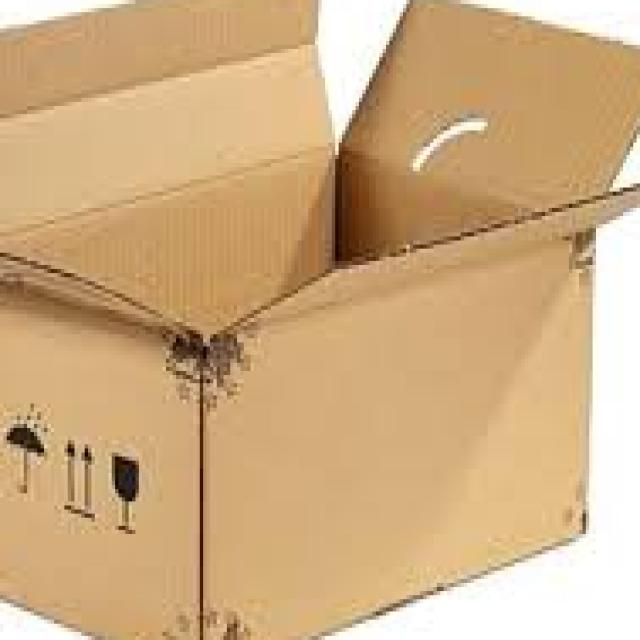organic: (2, 5, 638, 634)
